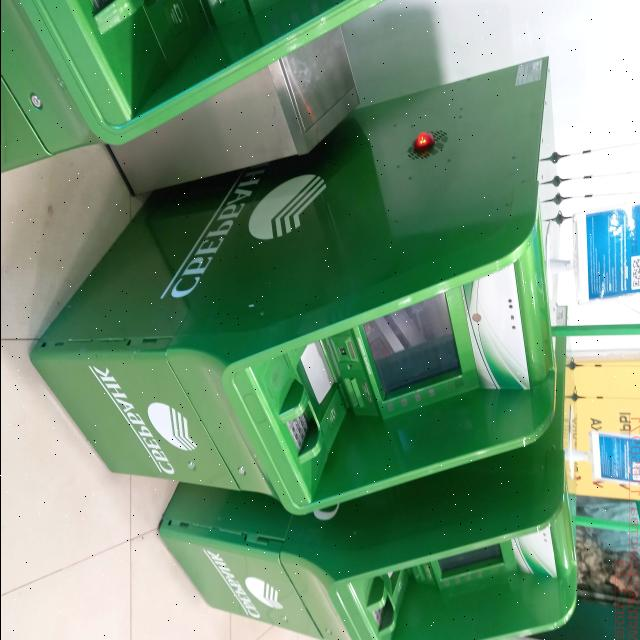bank: (26, 56, 556, 526), (157, 294, 576, 640), (0, 1, 429, 184)
